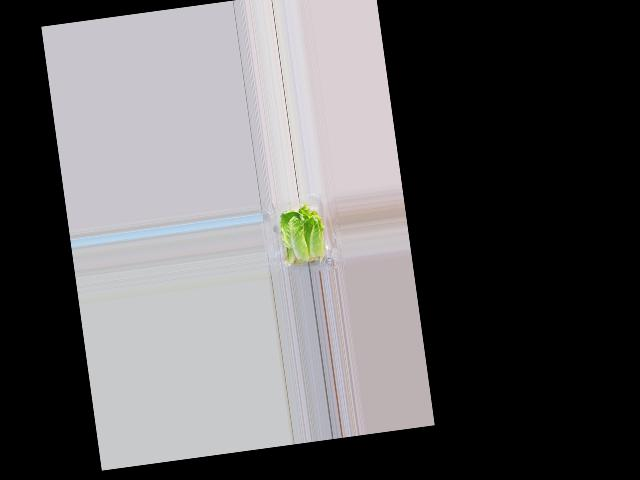lettuce: (277, 202, 327, 264)
